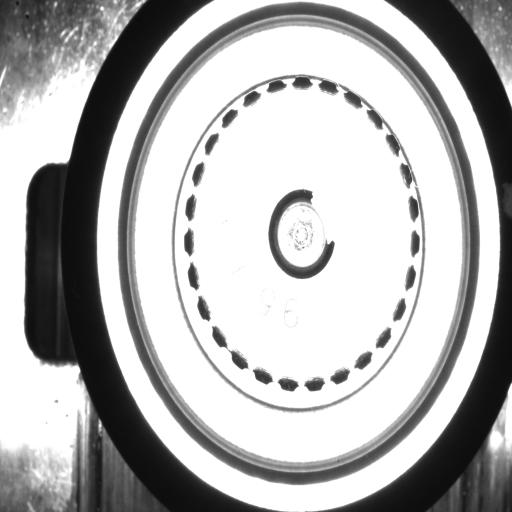gear: (183, 74, 421, 392)
